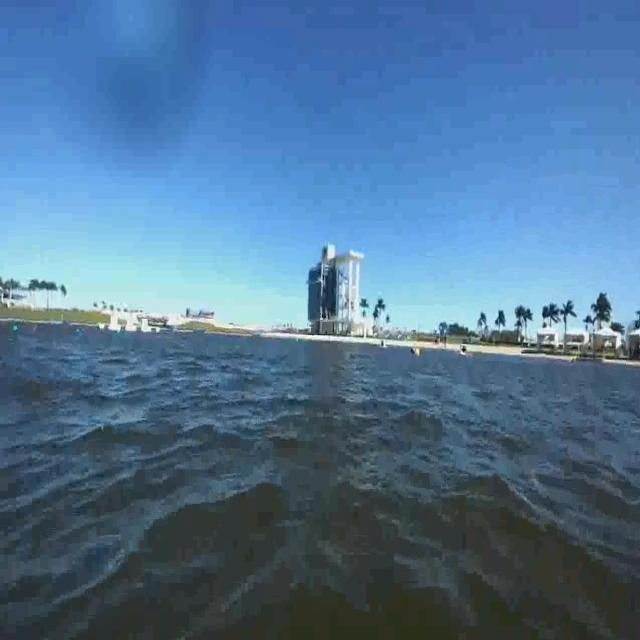green-buoy: (13, 322, 17, 332)
yellow-buoy: (414, 344, 421, 356)
